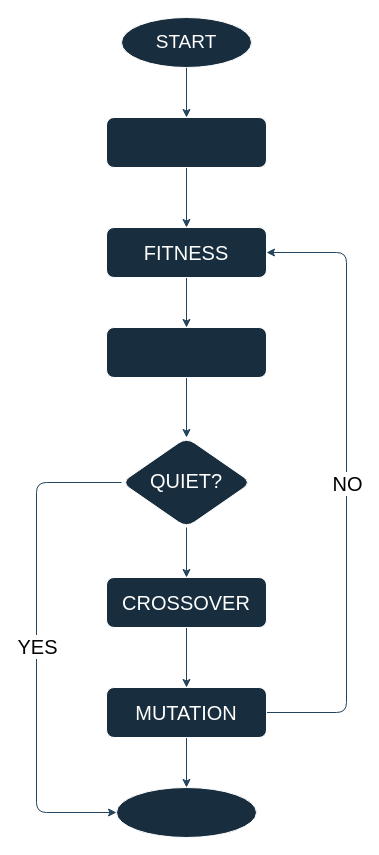
This 379x855 diagram has some shape labels left out. Each missing label, with the centre of its shape:
"END" belongs at (186,812).
"INITIALIZATION" belongs at (186,142).
"SELECTION" belongs at (186,352).
